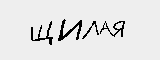А: (98, 19, 113, 39)
И: (58, 15, 84, 44)
Л: (82, 17, 100, 41)
Щ: (27, 18, 54, 46)
Я: (110, 19, 127, 41)
